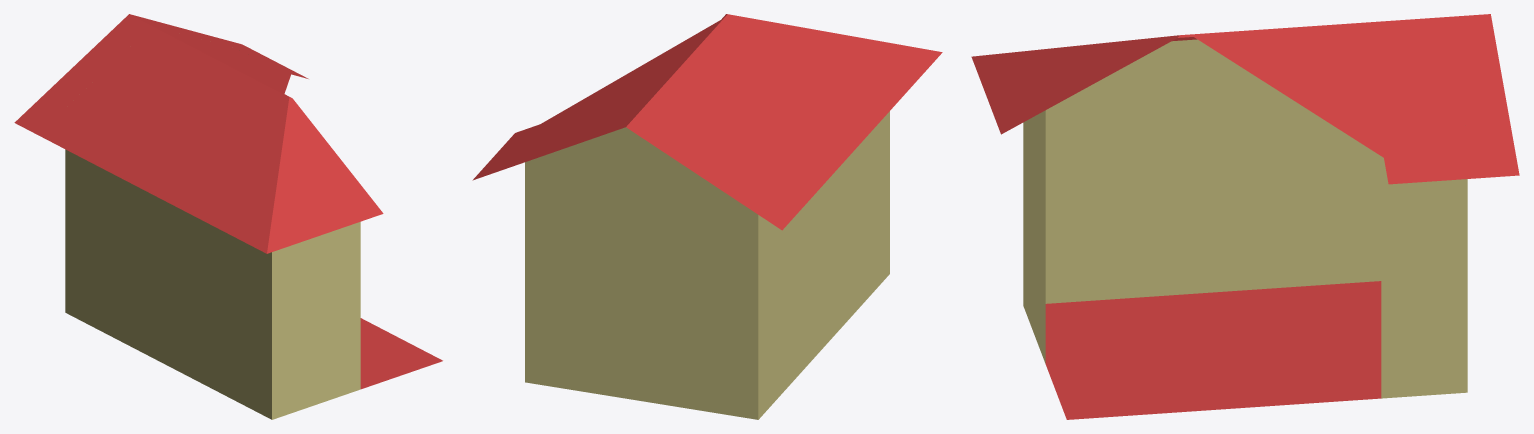
3 views of the same model, side by side, from view 1: azimuth 30°, elevation 25°; view 2: azimuth 150°, elevation 25°; view 3: azimuth 270°, elevation 25° (orthographic). The views are drawn at different scales.
Bounding box in the file's own units: 8.58 × 12.14 × 7.79.
